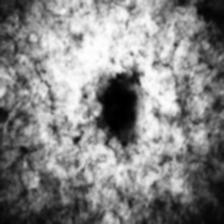Potentially Malignant Skin Tumors: (96, 76, 138, 146)
